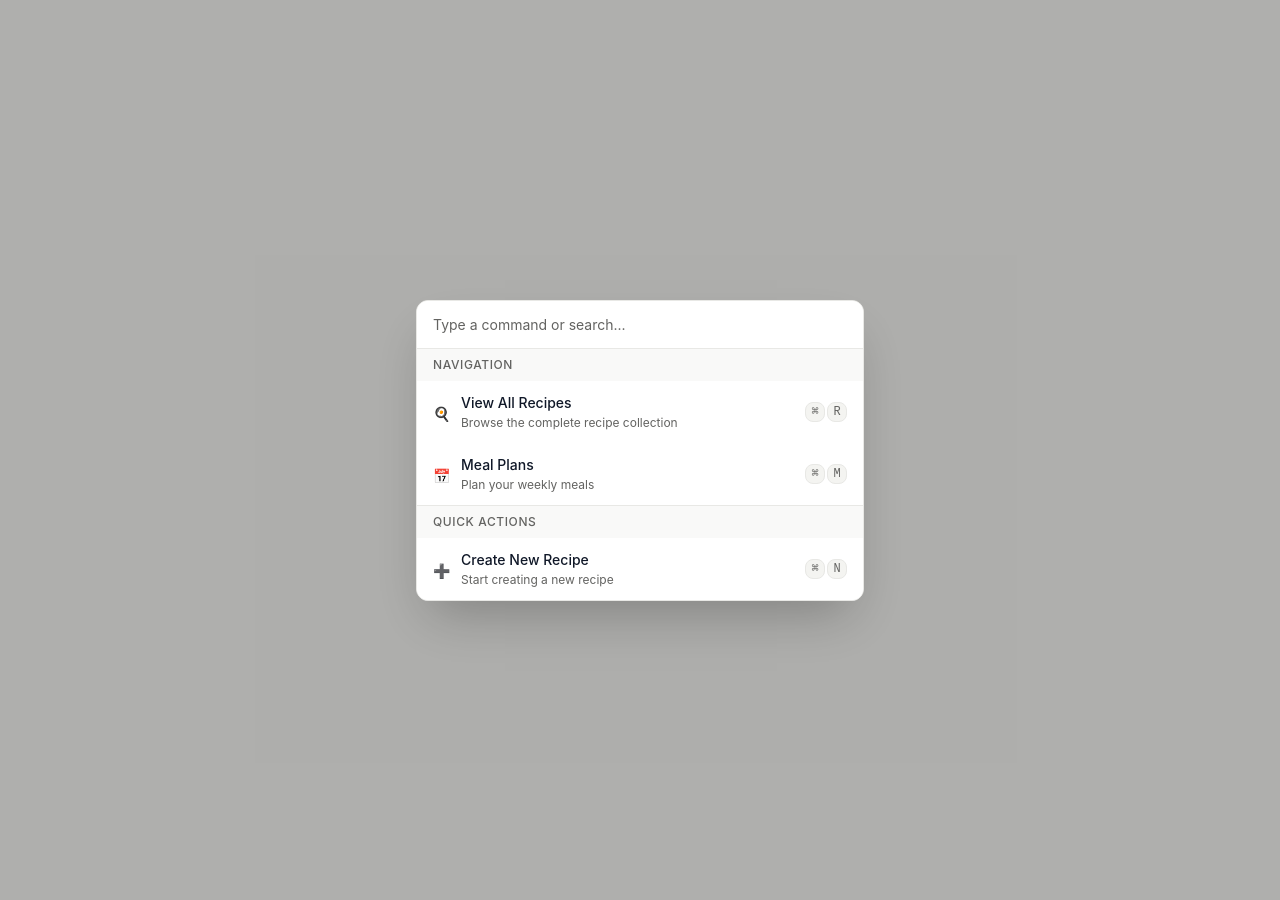
Test: CommandPalette › Search Functionality › shows empty state when no results found
In the search field: (640, 324) top-left (417, 300), bottom-right (863, 348), type "nonexistent"
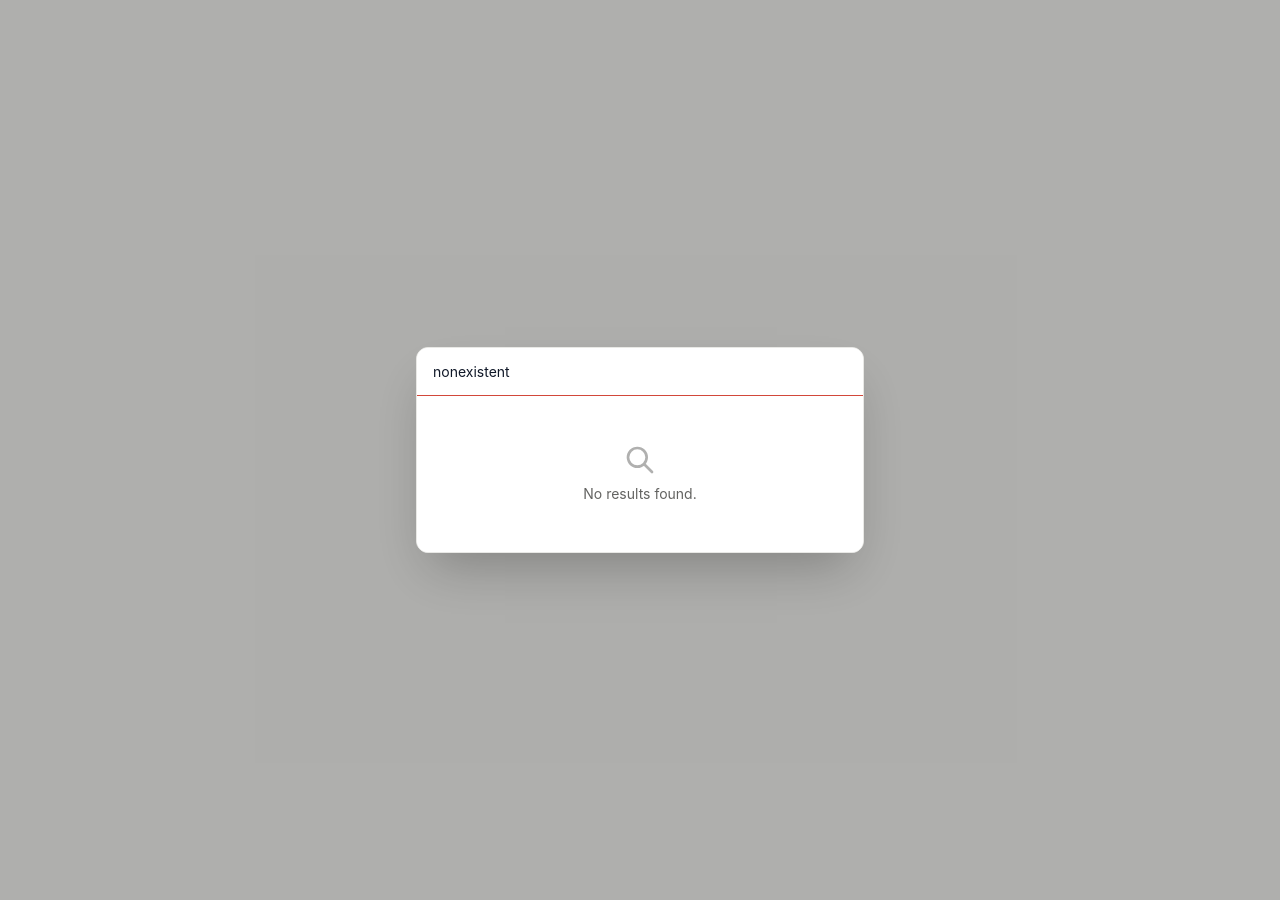
Now the text "No results found." is shown, box top-left (583, 484), bottom-right (697, 504)
